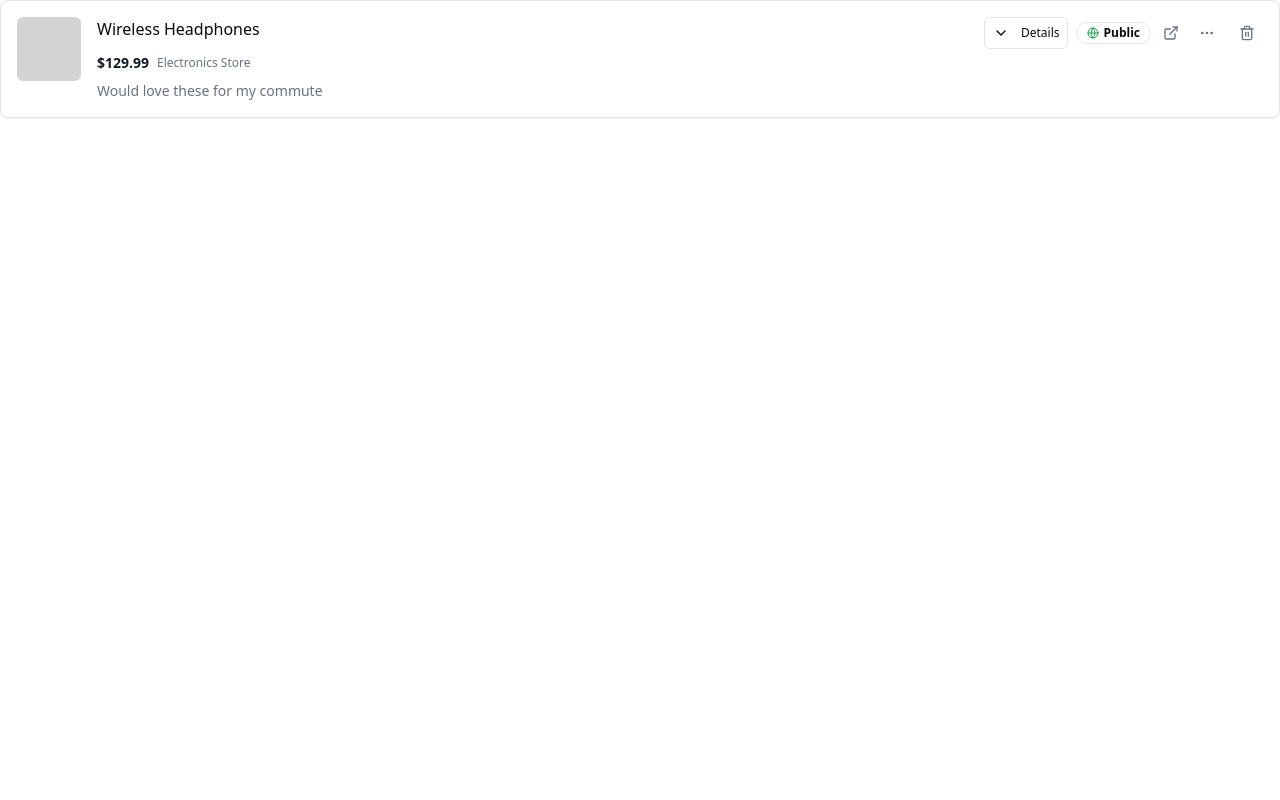
WishlistItem Component › should show delete confirmation dialog
The image size is (1280, 800).
Note: Click delete button
Step 1. Click the button named "delete" → (1247, 33), box [1231, 17, 1263, 49]
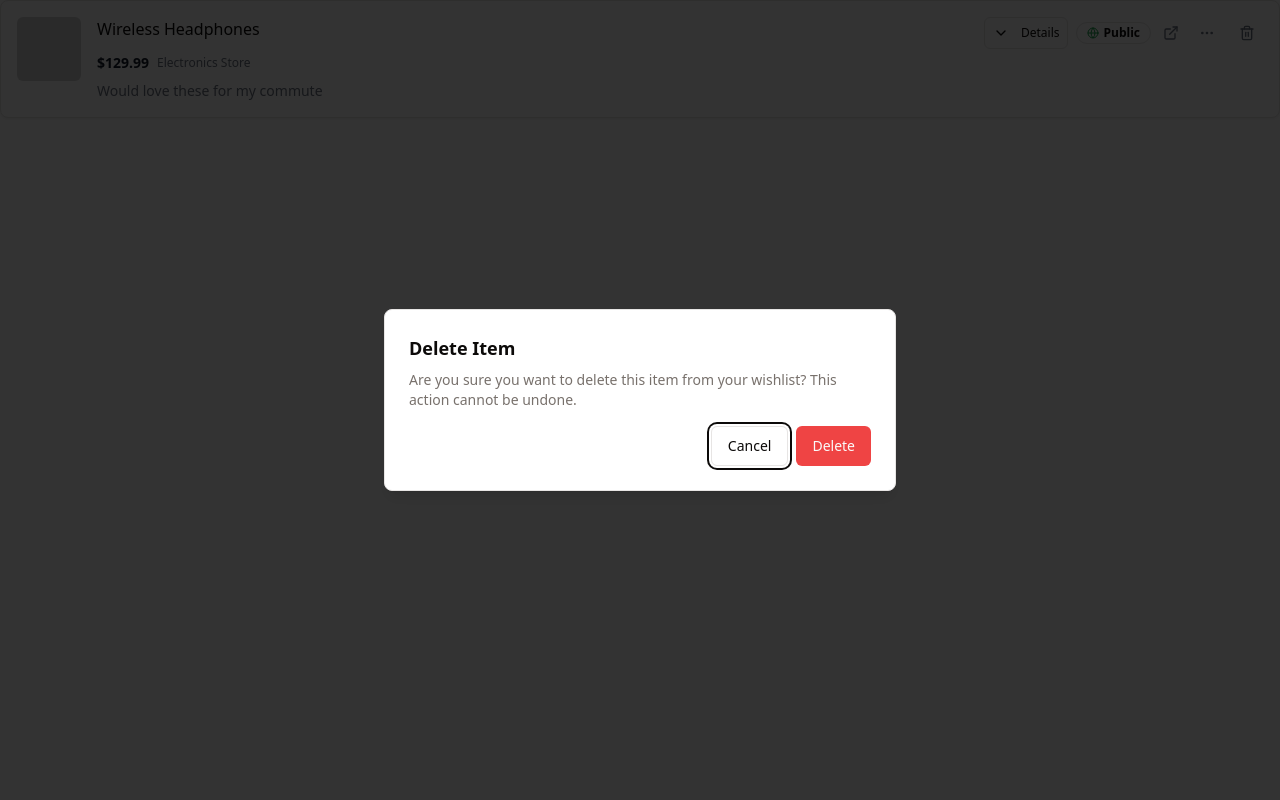
Now the heading "Delete Item" is shown, box [409, 336, 515, 360]
Now the text "Are you sure you want to delete this item" is shown, box [409, 370, 837, 409]
